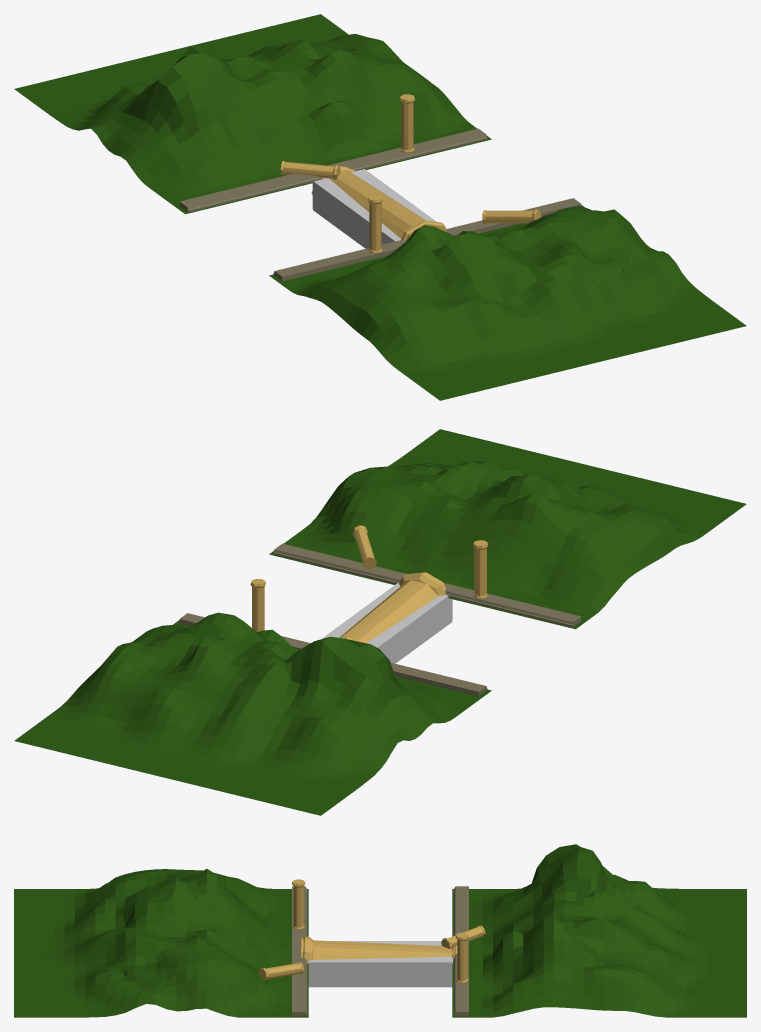
File: GapTile.fbx
3 renders of one model, top to bottom at view 1: azimuth 30°, elevation 25°; view 2: azimuth 150°, elevation 25°; view 3: azimuth 270°, elevation 25°, orthographic. The views are drawn at different scales.
Visible parts, largest first — view 1: Left_Mountain, Right_Mountain, Right_PBase, Ground, Left_PBase, Pillar007, Pillar001, Pillar006, Pillar002, Pillar005; view 2: Right_Mountain, Left_Mountain, Left_PBase, Ground, Pillar007, Right_PBase, Pillar002, Pillar006; view 3: Right_Mountain, Left_Mountain, Ground, Pillar007, Right_PBase, Left_PBase, Pillar002, Pillar006, Pillar001, Pillar005.
Boxes of the visible parts, <box> form: Left_Mountain: <box>269,205,746,400</box>; Right_Mountain: <box>14,14,491,214</box>; Right_PBase: <box>179,128,487,212</box>; Ground: <box>312,169,436,248</box>; Left_PBase: <box>273,198,581,281</box>; Pillar007: <box>311,166,447,240</box>; Pillar001: <box>482,209,541,223</box>; Pillar006: <box>400,94,414,152</box>; Pillar002: <box>368,195,382,253</box>; Pillar005: <box>280,161,340,179</box>; Right_Mountain: <box>14,612,491,815</box>; Left_Mountain: <box>269,429,746,629</box>; Left_PBase: <box>273,543,581,627</box>; Ground: <box>321,583,452,663</box>; Pillar007: <box>339,572,449,643</box>; Right_PBase: <box>179,613,487,696</box>; Pillar002: <box>473,540,488,598</box>; Pillar006: <box>250,578,265,632</box>; Right_Mountain: <box>452,844,746,1017</box>; Left_Mountain: <box>14,869,308,1017</box>; Ground: <box>307,941,452,987</box>; Pillar007: <box>300,936,457,968</box>; Right_PBase: <box>453,886,468,1015</box>; Left_PBase: <box>292,886,307,1015</box>; Pillar002: <box>292,879,305,929</box>; Pillar006: <box>455,932,468,983</box>; Pillar001: <box>258,962,303,980</box>; Pillar005: <box>441,925,485,948</box>.
Size of the model in its own units: 6 by 2.25 by 14.43.
